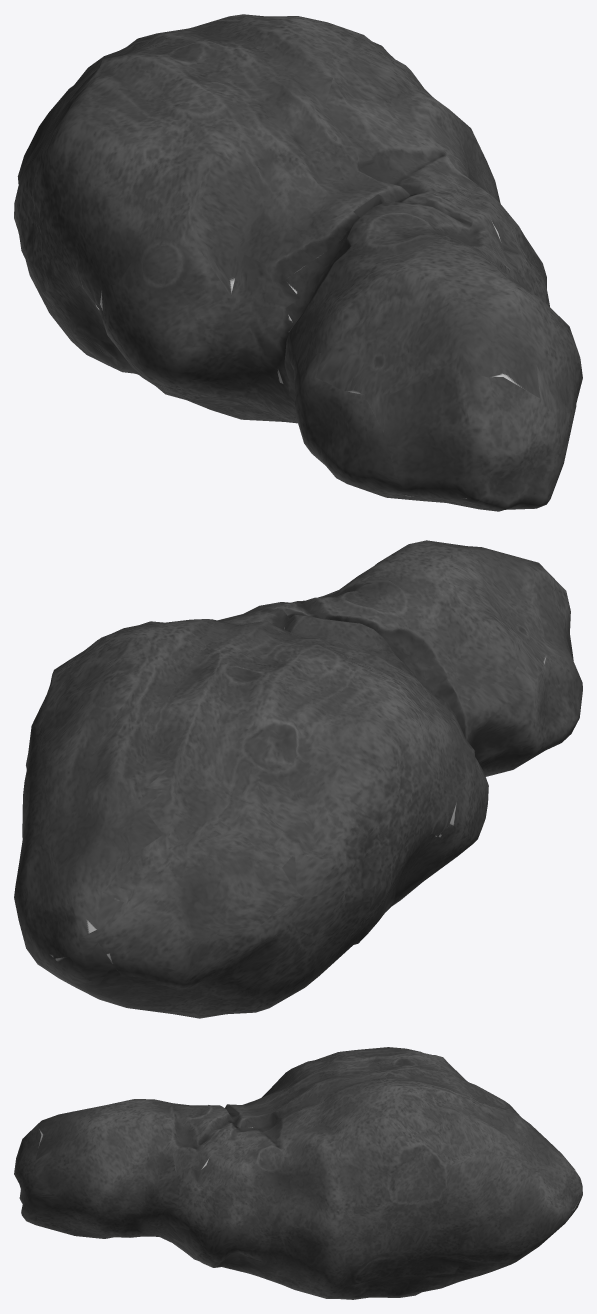
The model's file is Asteroide_Decimated.fbx.
3 views of the same model, one above another, from view 1: azimuth 30°, elevation 25°; view 2: azimuth 150°, elevation 25°; view 3: azimuth 270°, elevation 25° (orthographic). The views are drawn at different scales.
Visible parts, largest first — view 1: Toutatis_LP; view 2: Toutatis_LP; view 3: Toutatis_LP.
Part boxes in pixels (<box>): Toutatis_LP: <box>14,14,582,511</box>; Toutatis_LP: <box>14,540,582,1018</box>; Toutatis_LP: <box>14,1047,582,1299</box>.
Size of the model in its own units: 227 by 190 by 457.
